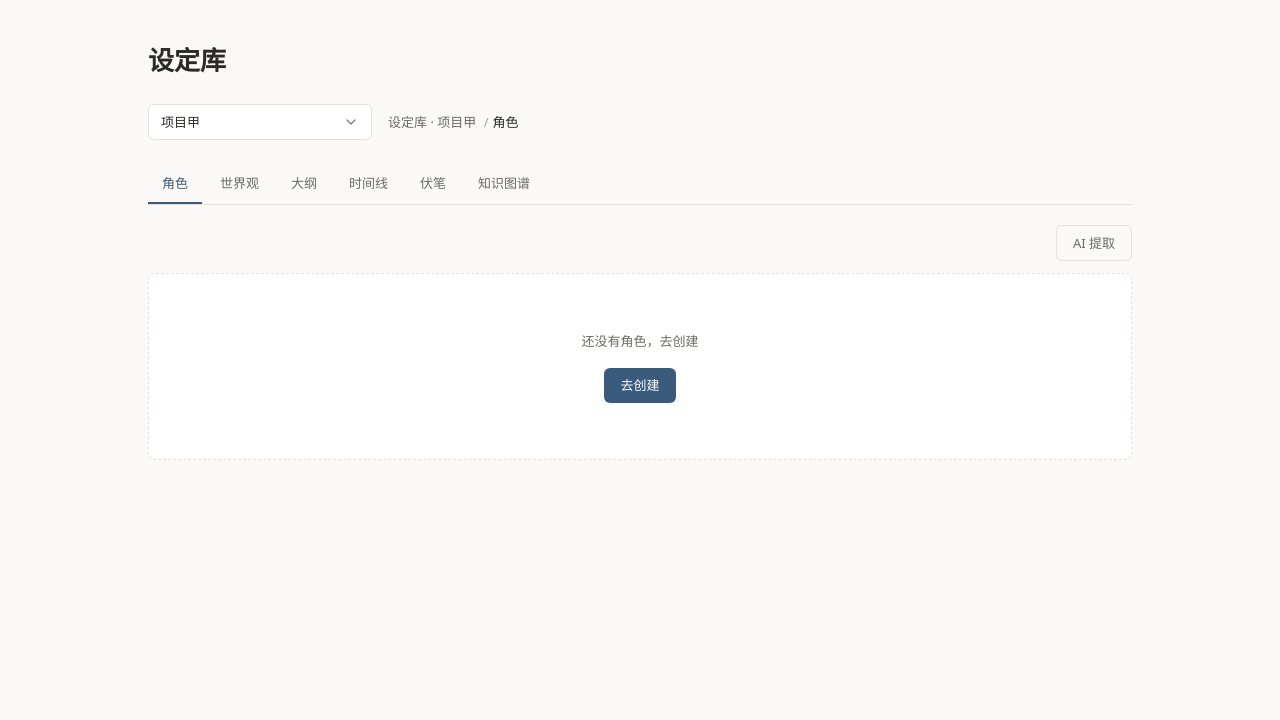
Test: 设定库页 — F43 P2 地图工作台（世界观 tab，spec §5.8-5.13/§9.5 M1-M13） › M6 AI 底图占位：点 map-bg-ai → map-ai-placeholder 渲染「即将推出」
This screenshot has width=1280, height=720.
Click the tab "世界观" at x=240, y=184, box x1=206 y1=164 x2=273 y2=204
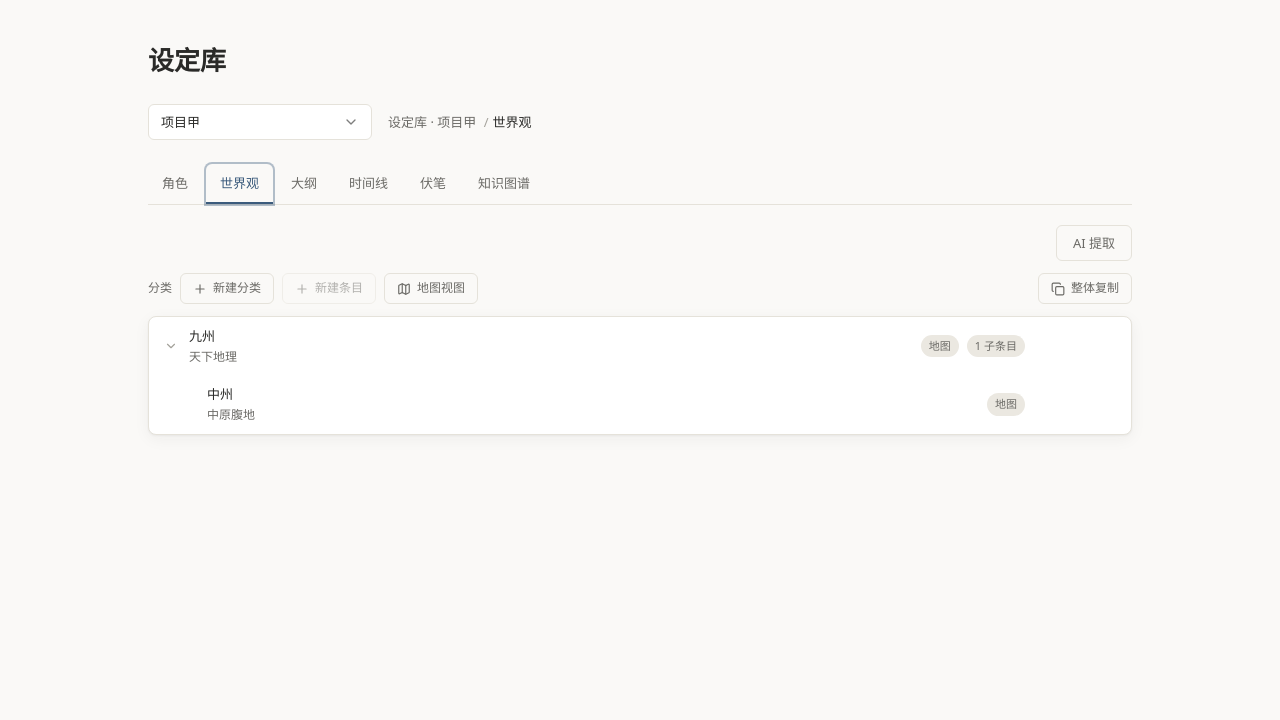
Expected: the element with test id "library-list" is shown, x1=148 y1=316 x2=1132 y2=435
Click the button with test id "map-view-entry" at x=431, y=289, box x1=384 y1=273 x2=478 y2=304
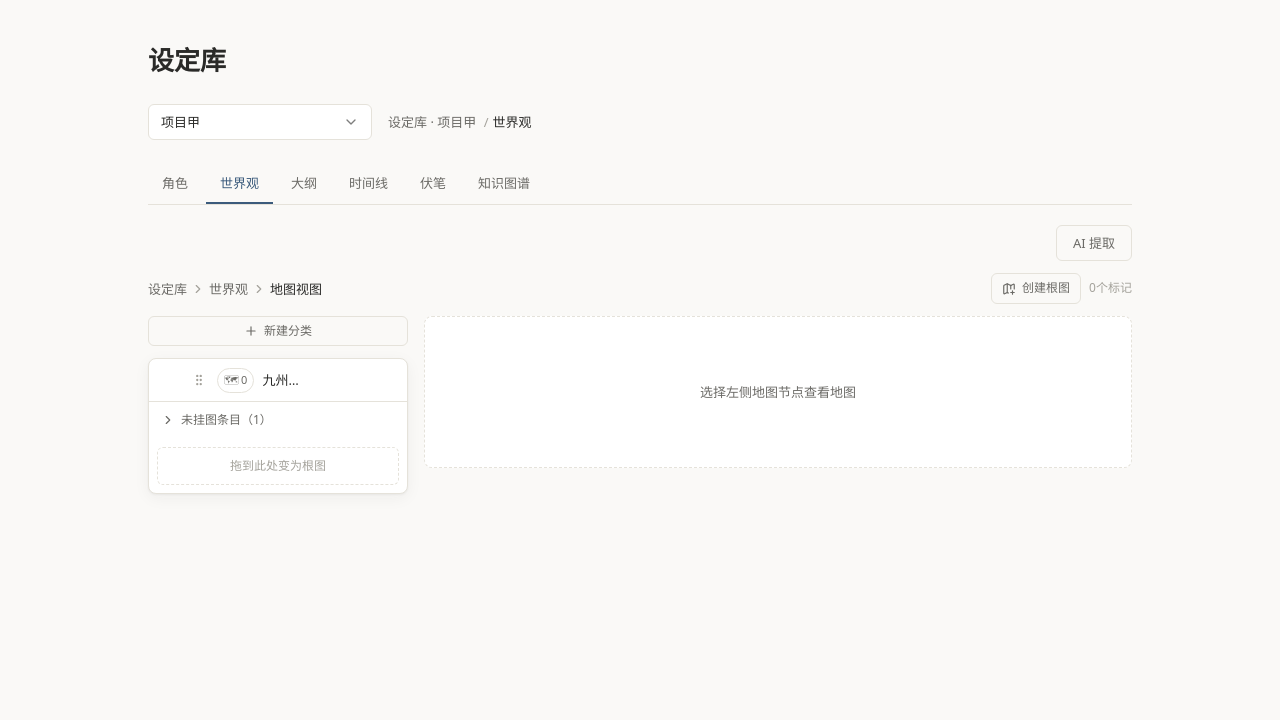
Expected: the element with test id "map-workbench" is shown, x1=148 y1=273 x2=1132 y2=506
Click the button with test id "world-map-badge-w1" at x=236, y=380, box x1=217 y1=368 x2=254 y2=392
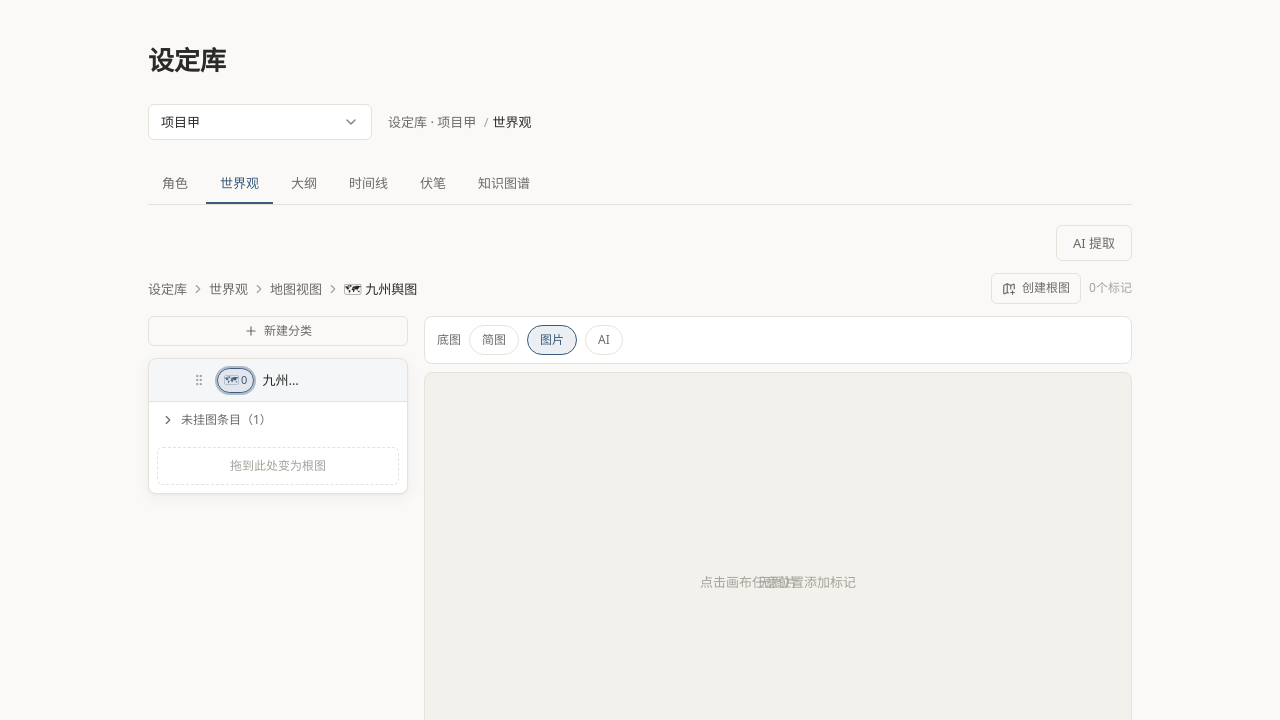
Click the button with test id "map-bg-ai" at x=604, y=340, box x1=585 y1=325 x2=623 y2=355
(page scrolled)
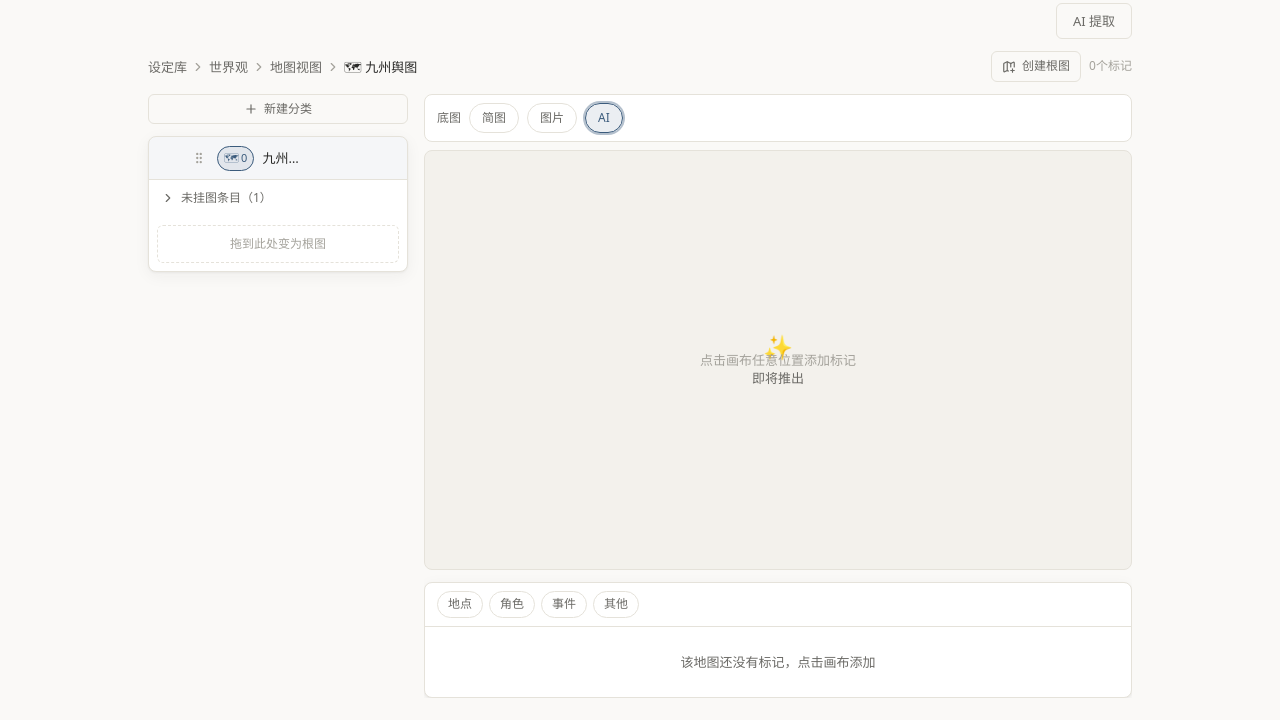
Expected: the element with test id "map-ai-placeholder" shows "即将推出", x1=752 y1=369 x2=804 y2=387
